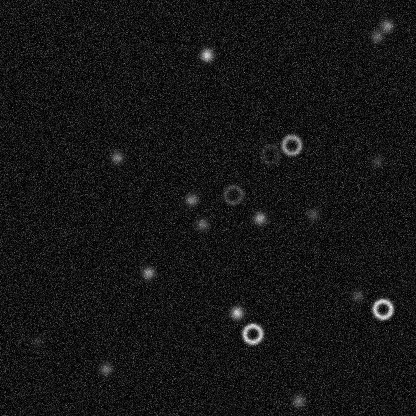Ring: (279, 132, 303, 156), (221, 182, 245, 206), (240, 321, 264, 345), (370, 296, 394, 320), (258, 142, 282, 166)
Spot: (228, 304, 244, 320), (305, 206, 321, 222), (108, 149, 124, 165), (198, 46, 214, 62), (183, 191, 199, 207), (251, 210, 267, 226), (194, 216, 210, 232), (29, 333, 45, 349), (349, 287, 365, 303), (290, 392, 306, 408), (368, 153, 384, 169), (140, 264, 156, 280), (378, 17, 394, 33), (368, 28, 384, 44), (97, 360, 113, 376)
